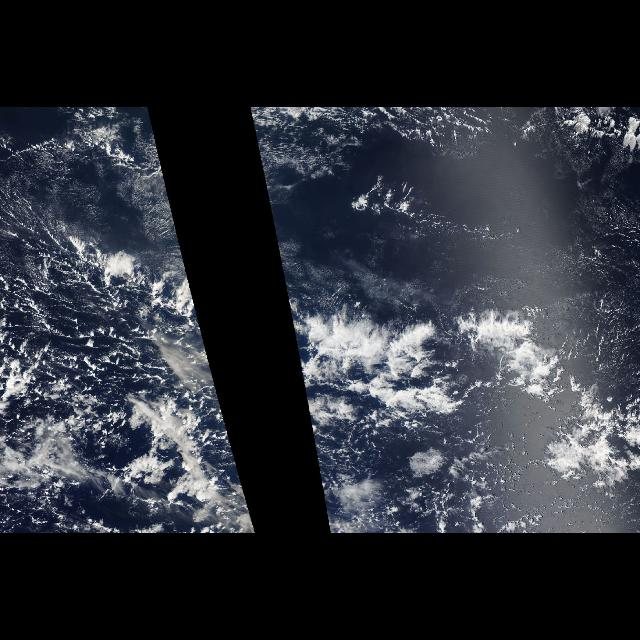Fish: (284, 264, 640, 506)
Gravel: (3, 211, 248, 533)
Sugar: (2, 109, 180, 244), (250, 107, 532, 185)
